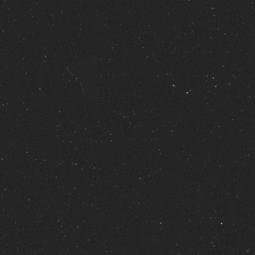debris: (60, 56, 102, 102)
